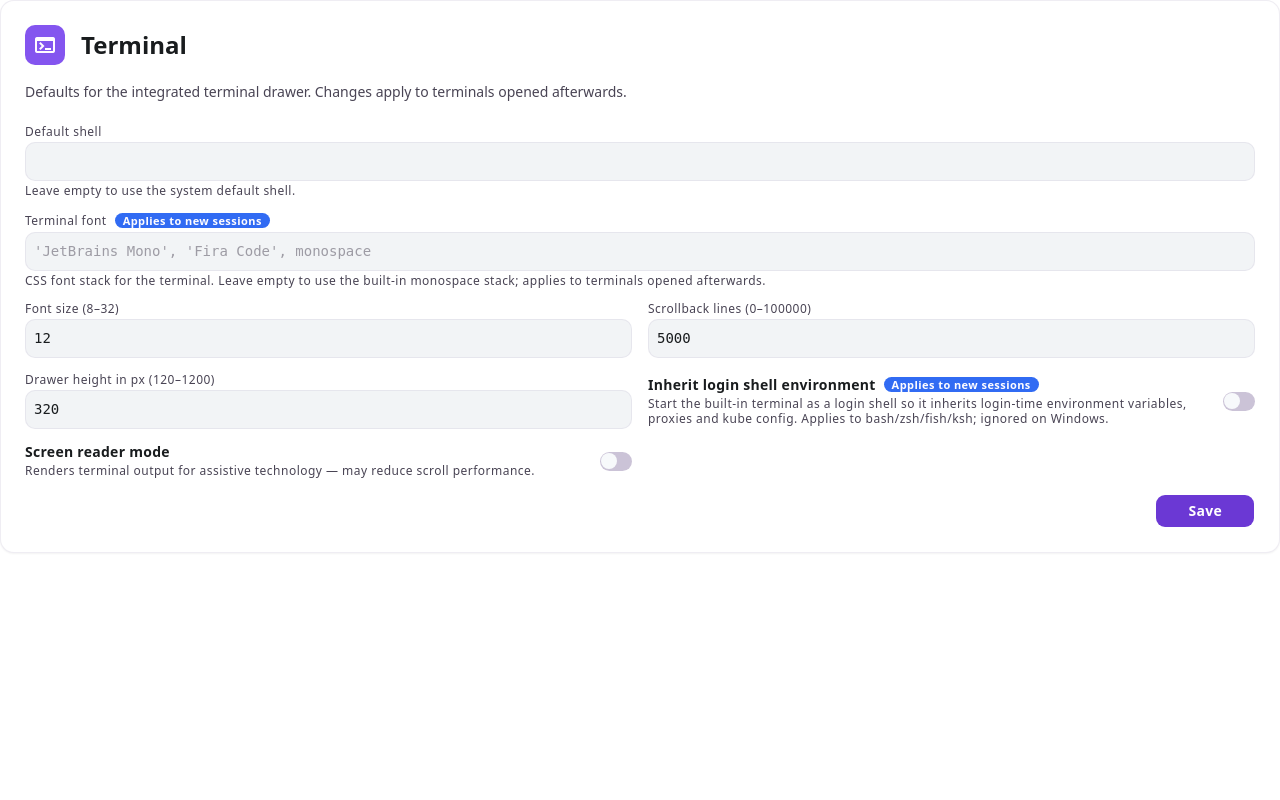
Scenario: TerminalSettings card (P3-1 load-failure safety + effective values) › sends the raw edit and renders the clamped effective values from the response
The width and height of the screenshot is (1280, 800).
Replace the text in the number field showing "5000" with "999999" at coordinates (952, 338), box [648,319,1255,358]
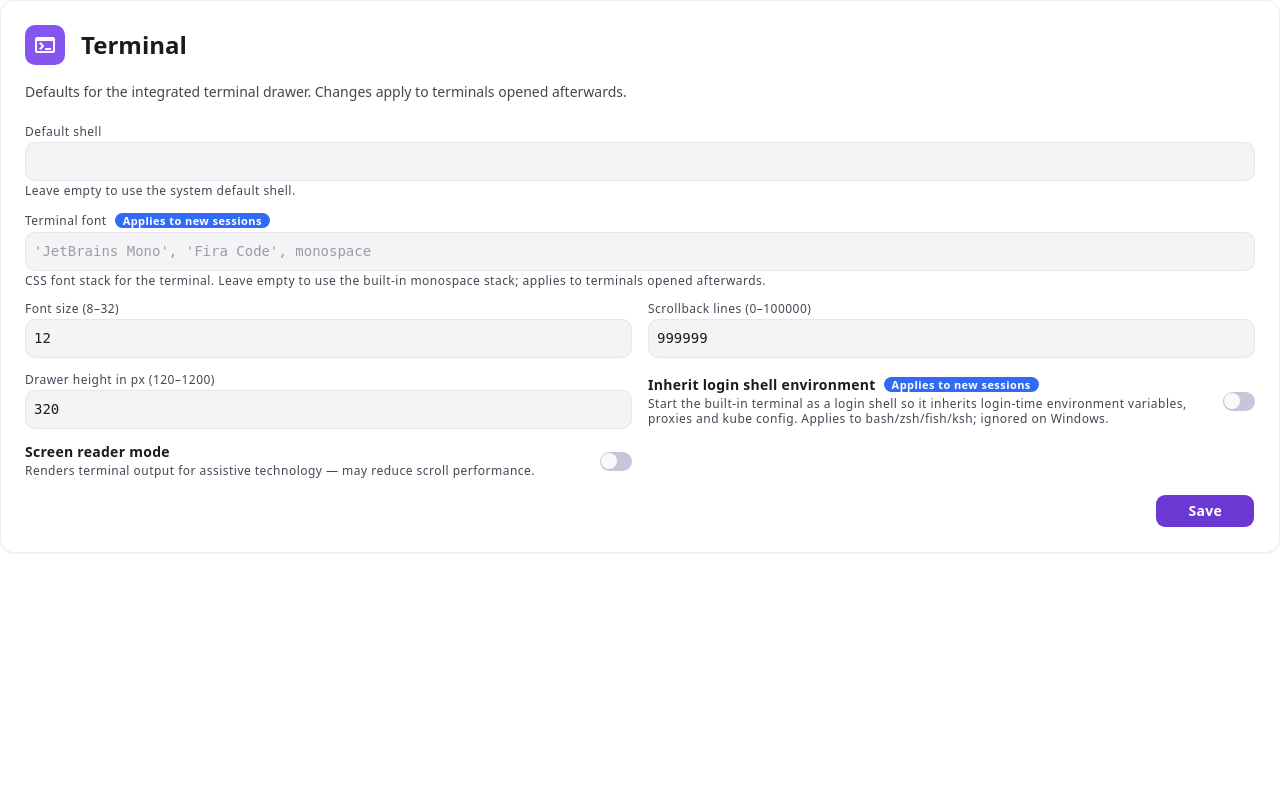
Click the button with aria-label "Save terminal settings" at coordinates (1205, 511), box [1156,494,1255,528]
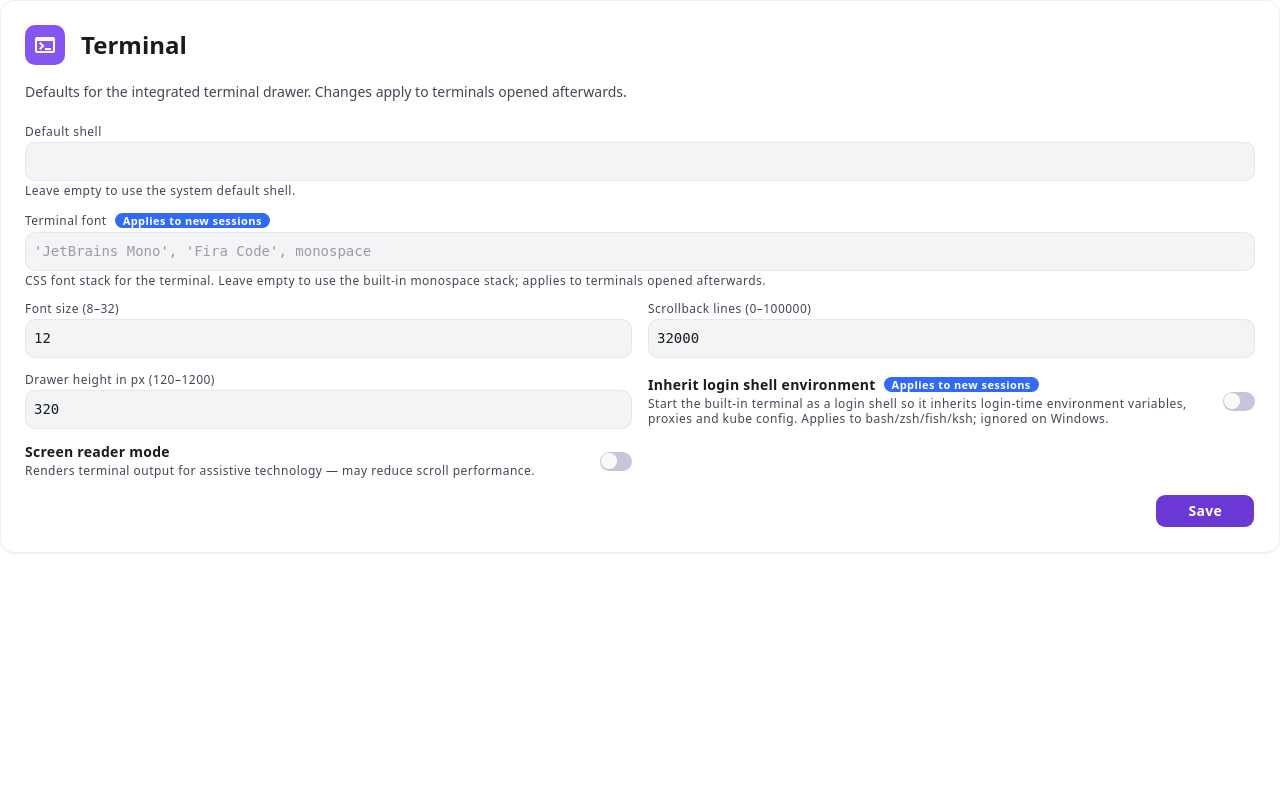
Result: the number field showing "32000" is shown at [648,319,1255,358]
